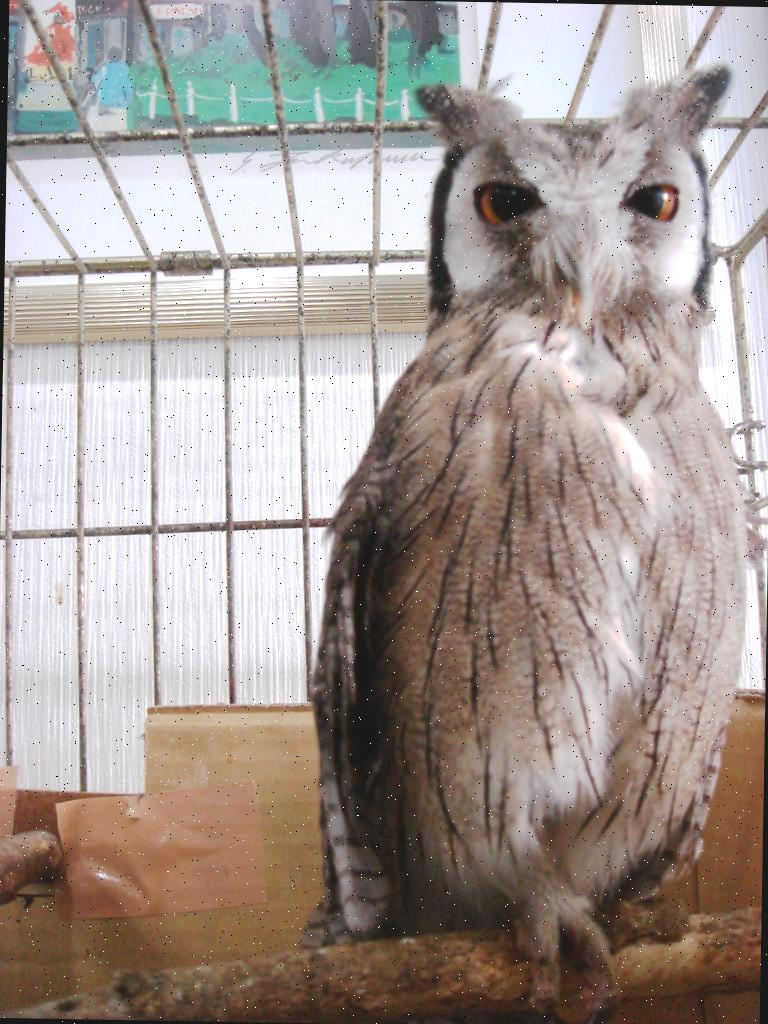Owl: (305, 45, 766, 973)
